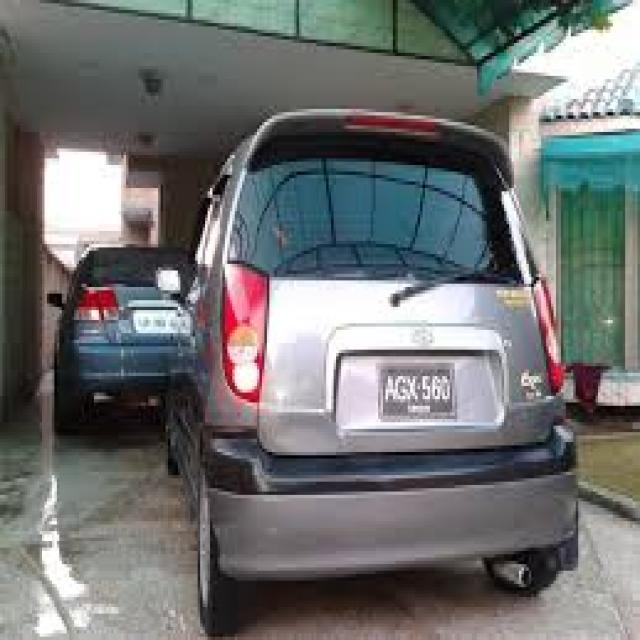Number-Plate: (378, 364, 455, 416)
